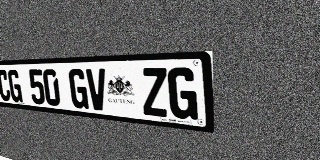0: (42, 69, 61, 106)
5: (28, 69, 46, 105)
C: (0, 70, 11, 101)
G: (167, 67, 198, 120), (68, 69, 89, 109), (7, 69, 23, 103)
V: (86, 68, 108, 111)
Z: (141, 68, 169, 117)
